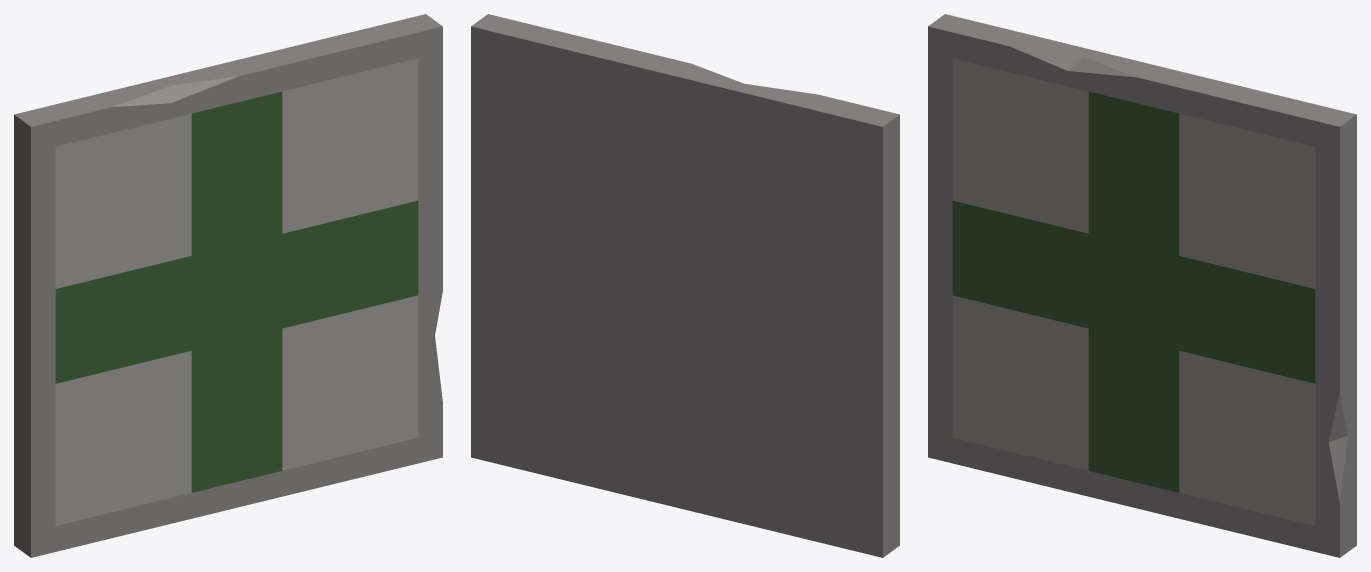
Rendered from SM_Prop_Sign_Medical_01.fbx.
3 renders of one model, left to right at view 1: azimuth 30°, elevation 25°; view 2: azimuth 150°, elevation 25°; view 3: azimuth 330°, elevation 25°, orthographic.
Parts seen in each view (by area): view 1: SM_Prop_Sign_Medical_01; view 2: SM_Prop_Sign_Medical_01; view 3: SM_Prop_Sign_Medical_01.
Boxes of the visible parts, x1,y1,x2,y2 form: SM_Prop_Sign_Medical_01: (14,14,442,557); SM_Prop_Sign_Medical_01: (471,14,899,557); SM_Prop_Sign_Medical_01: (928,14,1356,557).
Bounding box in the file's own units: 50.23 × 50.23 × 3.59.
